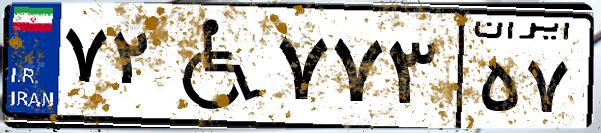2: (110, 28, 158, 98)
3: (385, 28, 445, 110)
5: (475, 38, 525, 113)
7: (270, 28, 330, 110), (330, 28, 385, 110), (57, 26, 110, 100), (525, 38, 570, 115)
ژ (معلولین و جانبازان): (158, 12, 270, 120)
